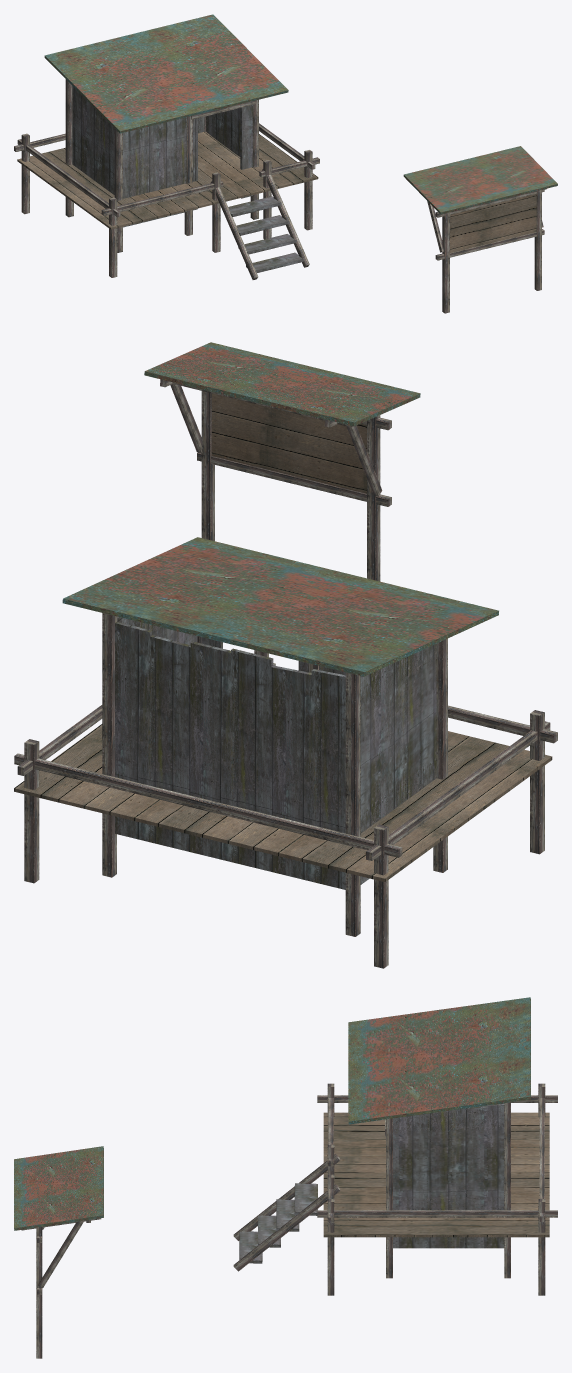
The model's file is outpost01.dae.
The picture shows the model from 3 angles, top to bottom: view 1: azimuth 30°, elevation 25°; view 2: azimuth 150°, elevation 25°; view 3: azimuth 270°, elevation 25°; orthographic projection. The views are drawn at different scales.
Parts seen in each view (by area): view 1: house-col, announcement_board-col; view 2: house-col, announcement_board-col; view 3: house-col, announcement_board-col.
Part boxes in pixels (left/top/right/bottom): house-col: left=14, top=14, right=319, bottom=279; announcement_board-col: left=403, top=146, right=557, bottom=313; house-col: left=14, top=537, right=557, bottom=968; announcement_board-col: left=144, top=342, right=420, bottom=581; house-col: left=233, top=997, right=557, bottom=1295; announcement_board-col: left=14, top=1146, right=103, bottom=1358.
Size of what is drawn, in the model's own units: 13.07 by 15.7 by 6.07.
4 materials, 4 textured.
